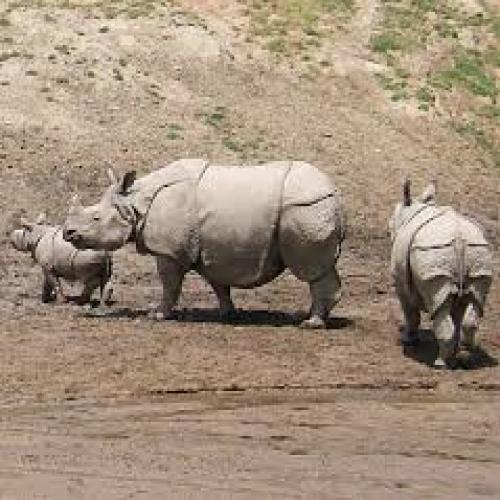rhino-endangered: (69, 156, 352, 335), (10, 216, 118, 317)
